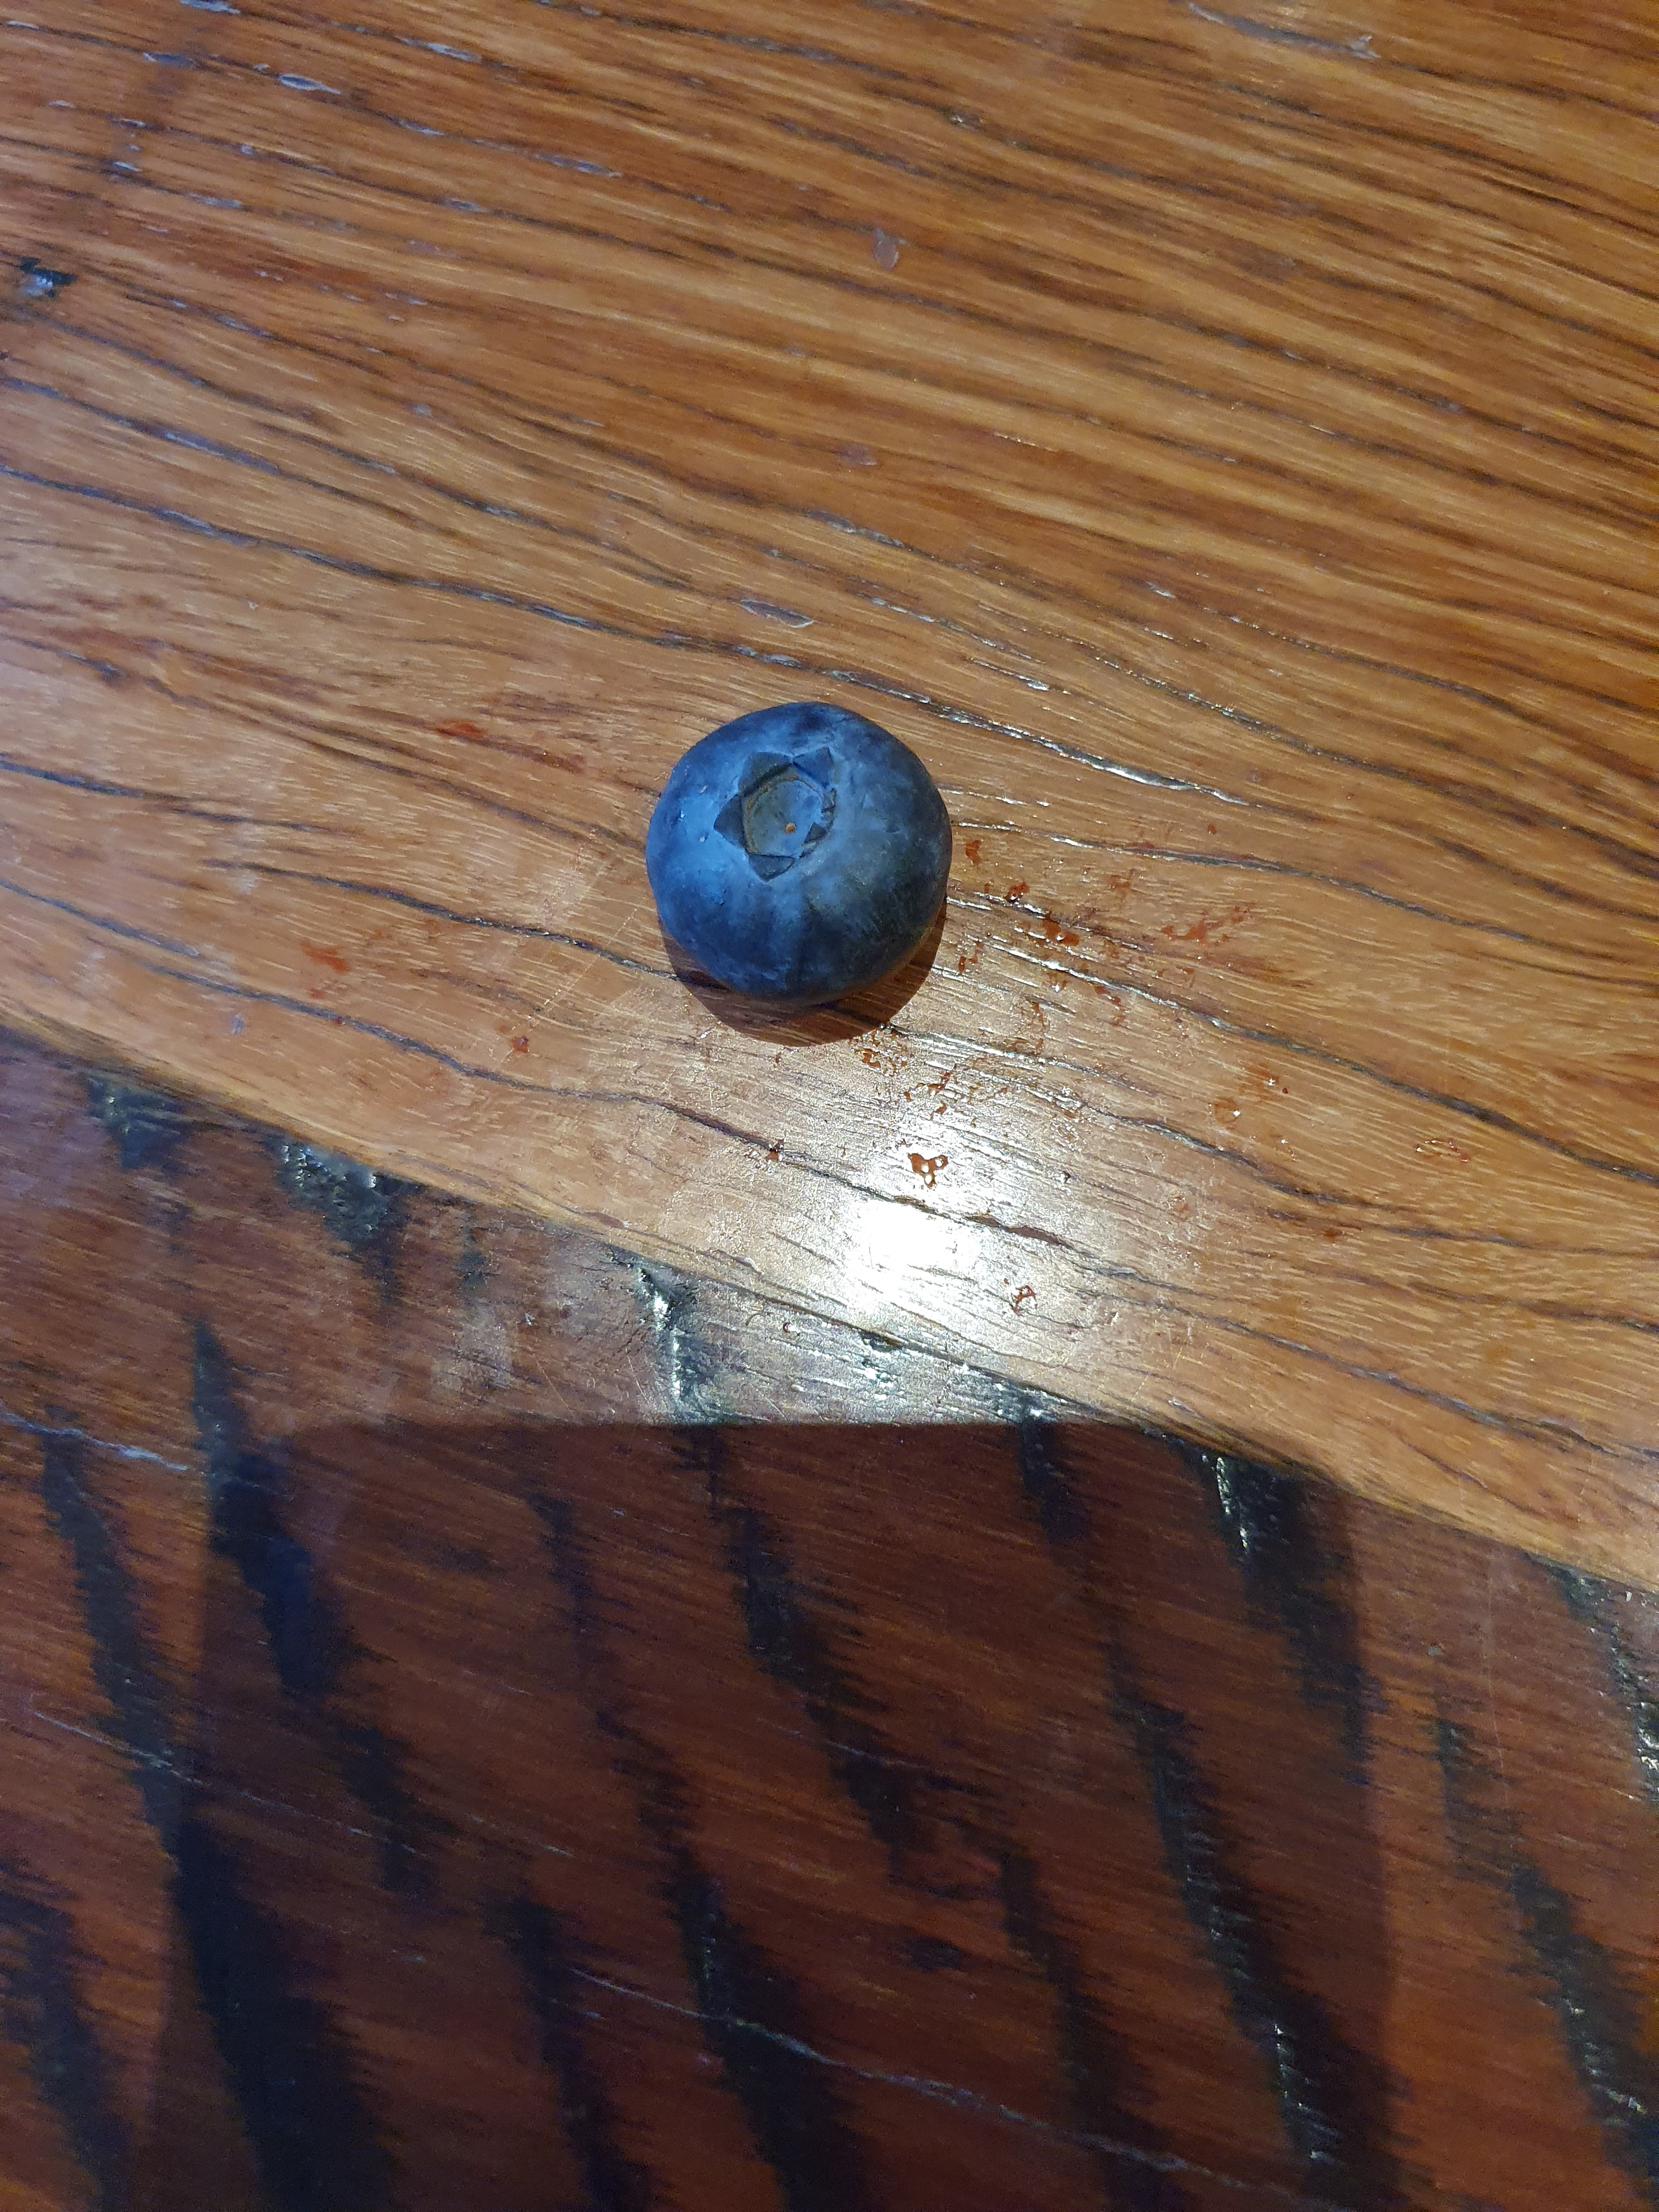blueberry: (606, 697, 967, 1010)
